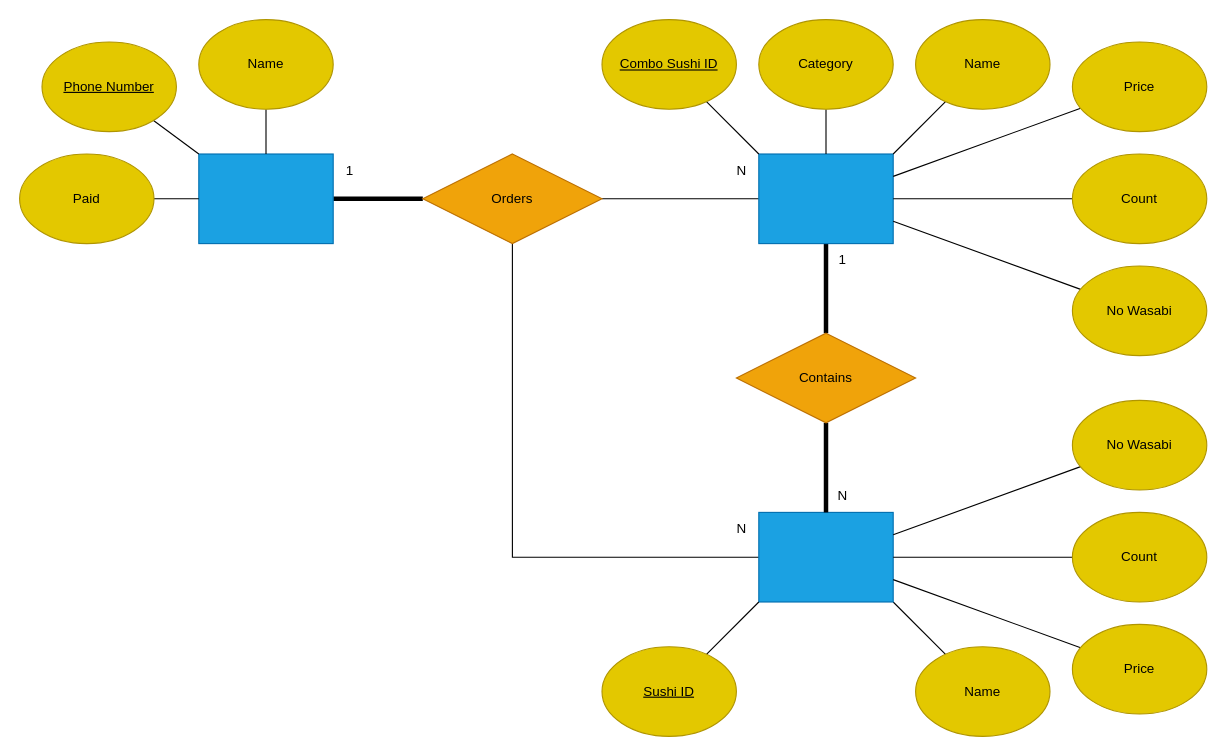
The diagram is 1226 pixels wide and 756 high, and some of its shapes have lost their labels. The shapes that lost their labels are listed below. From the top down, each one's centre as x and y in pixels, then its label:
At point 265,198: "Orderer".
At point 825,198: "Combo Sushi".
At point 825,556: "Sushi".
